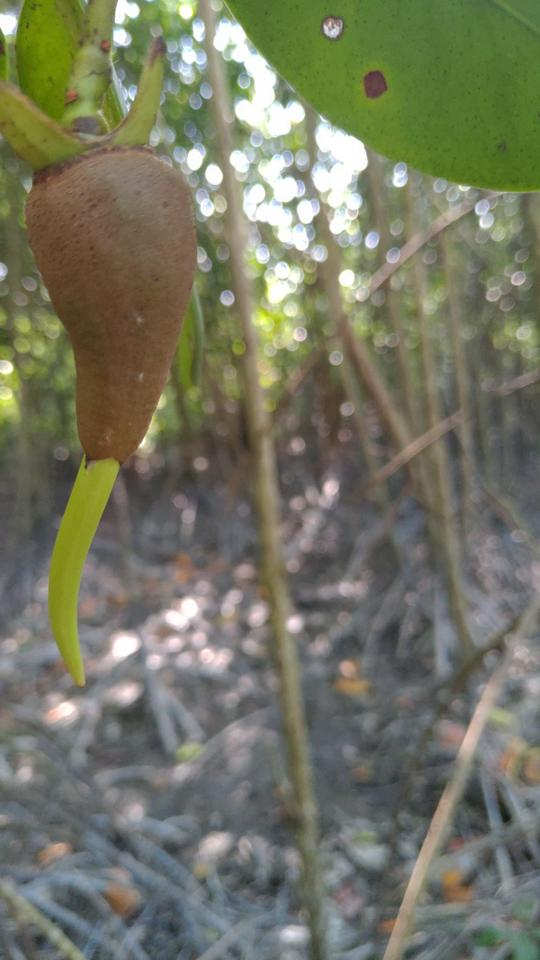mentah: (12, 93, 228, 710)
